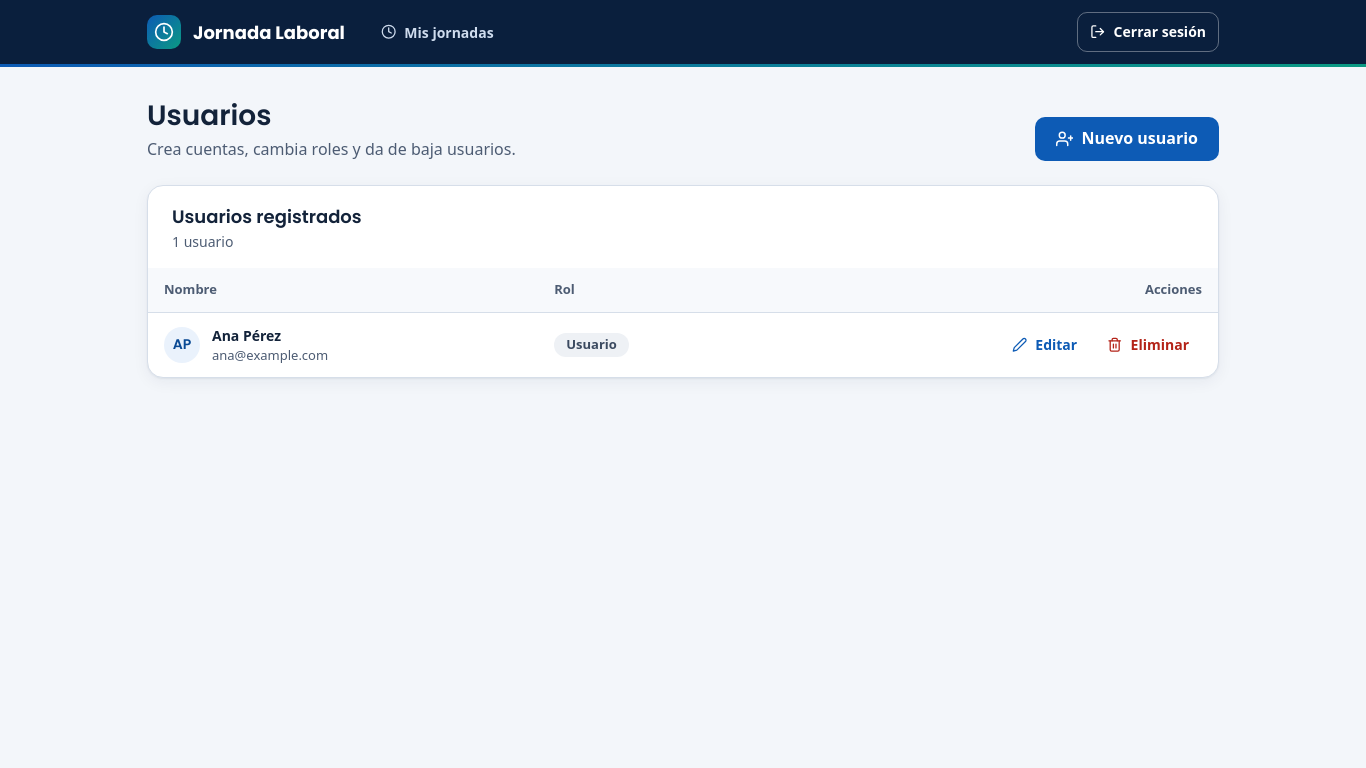
Test: lists users and edits one, then closes the form with a confirmation
Click the button with aria-label "Editar a Ana Pérez".
click(1045, 345)  # box [999, 327, 1090, 363]
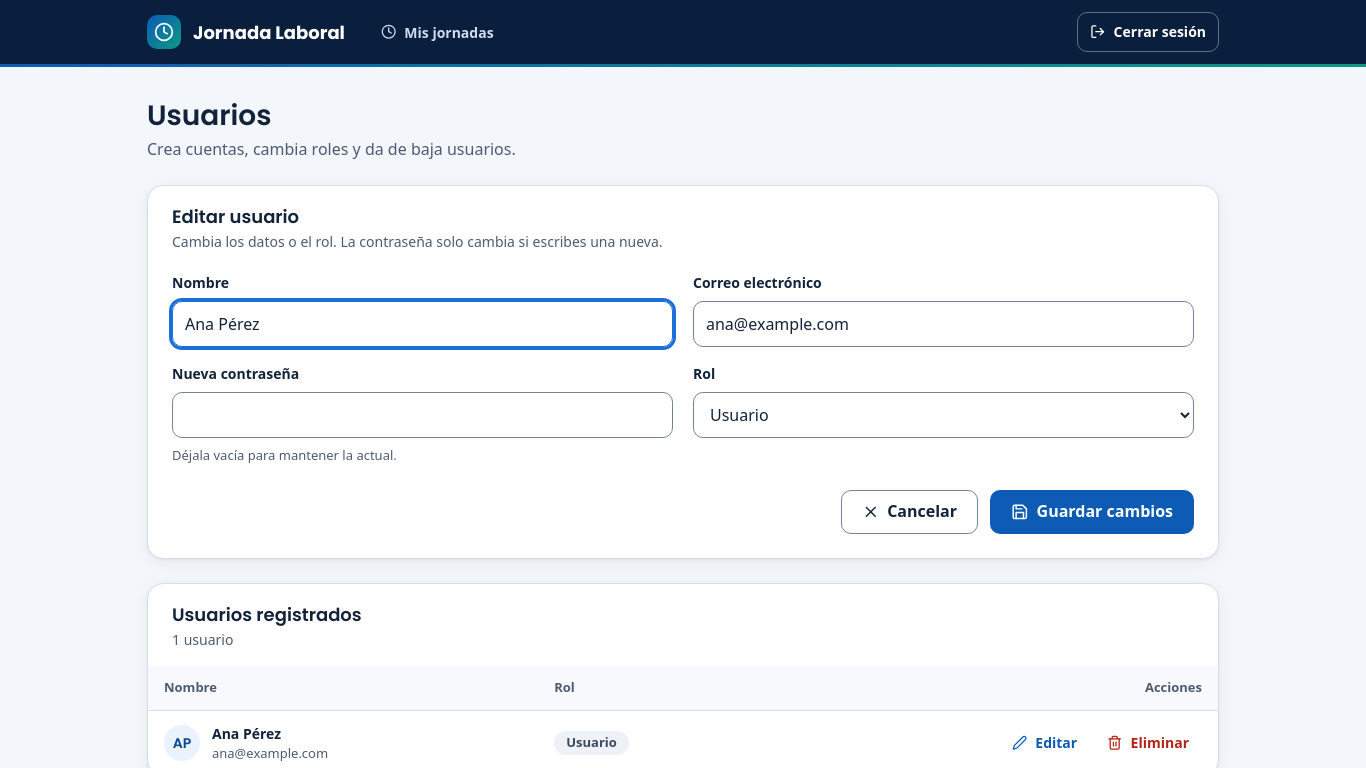
Expected: the heading "Editar usuario" is shown, [172, 204, 299, 229]
Expected: the field labelled "Nombre" holds "Ana Pérez"
Replace the text in the field labelled "Nombre" with "Ana P. Gómez" at (422, 324), box [172, 301, 673, 347]
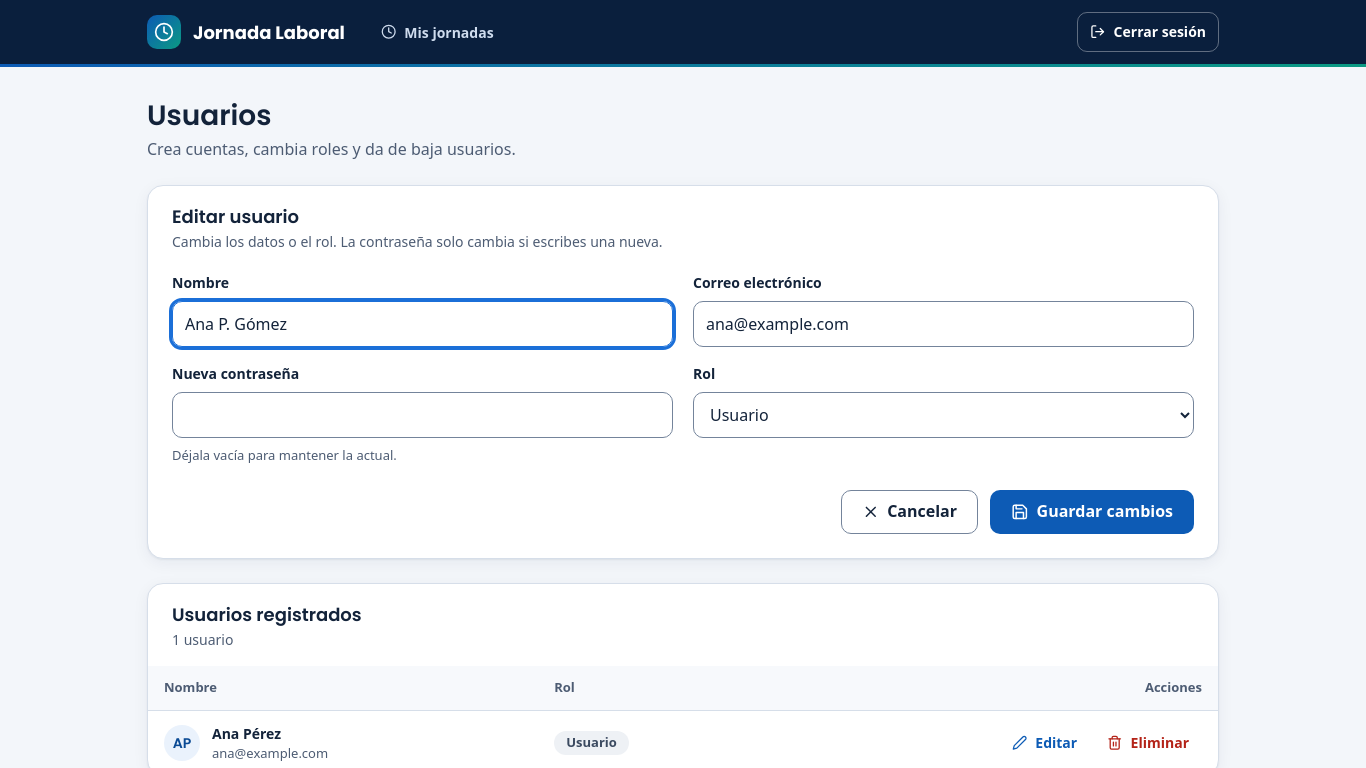
Click the button "Guardar cambios".
click(1092, 512)  # box [990, 490, 1194, 534]
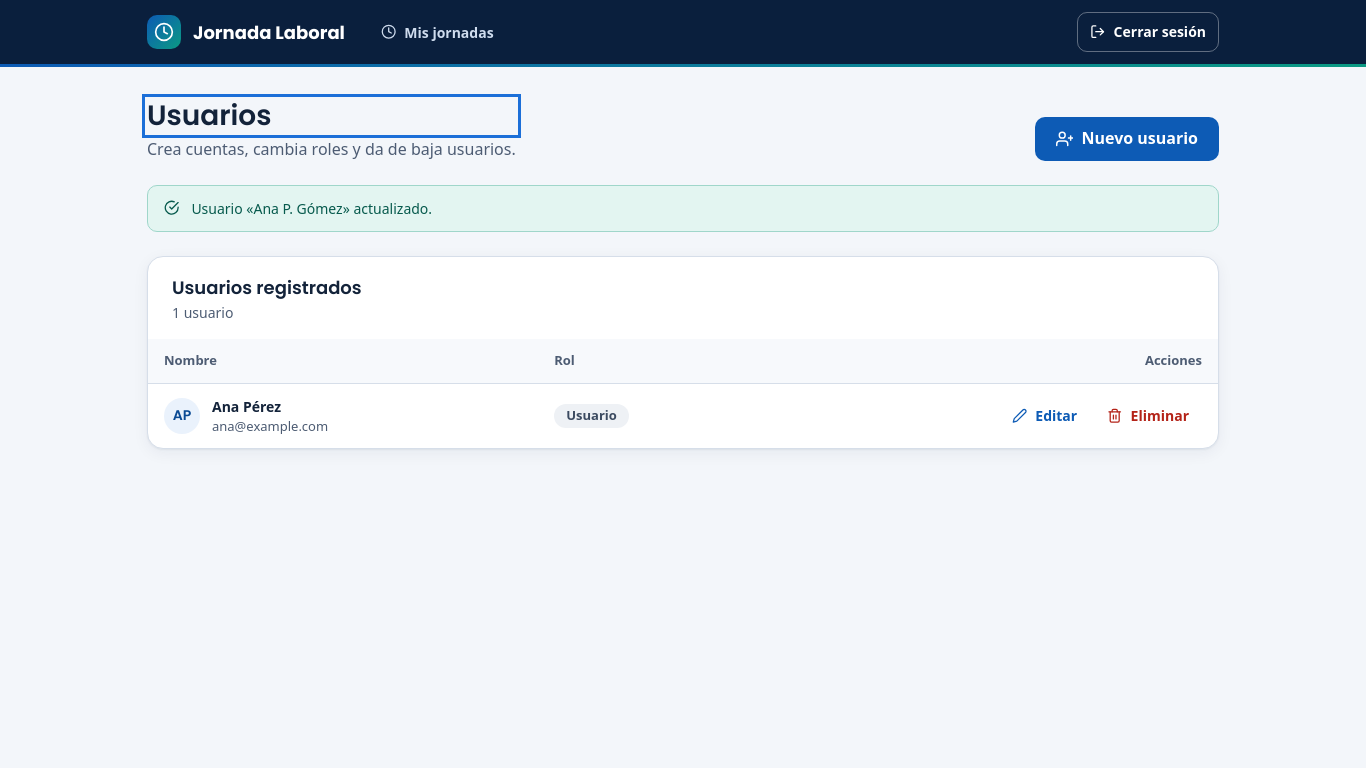
Expected: the text "Usuario «Ana P. Gómez» actualizado." is shown, [191, 198, 432, 219]
Expected: the heading "Editar usuario" is gone
